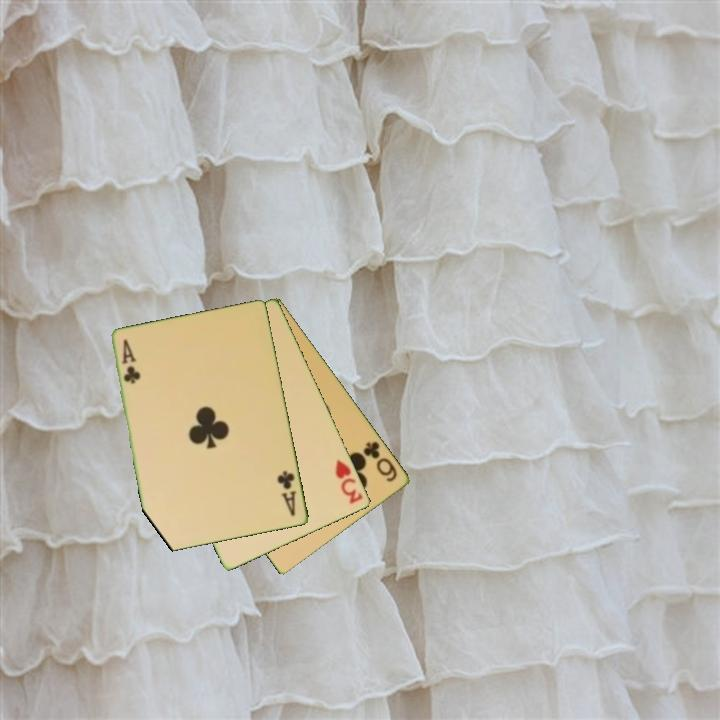3h: (332, 456, 366, 507)
6c: (360, 438, 401, 485)
Ac: (274, 467, 300, 519), (119, 336, 143, 387)
